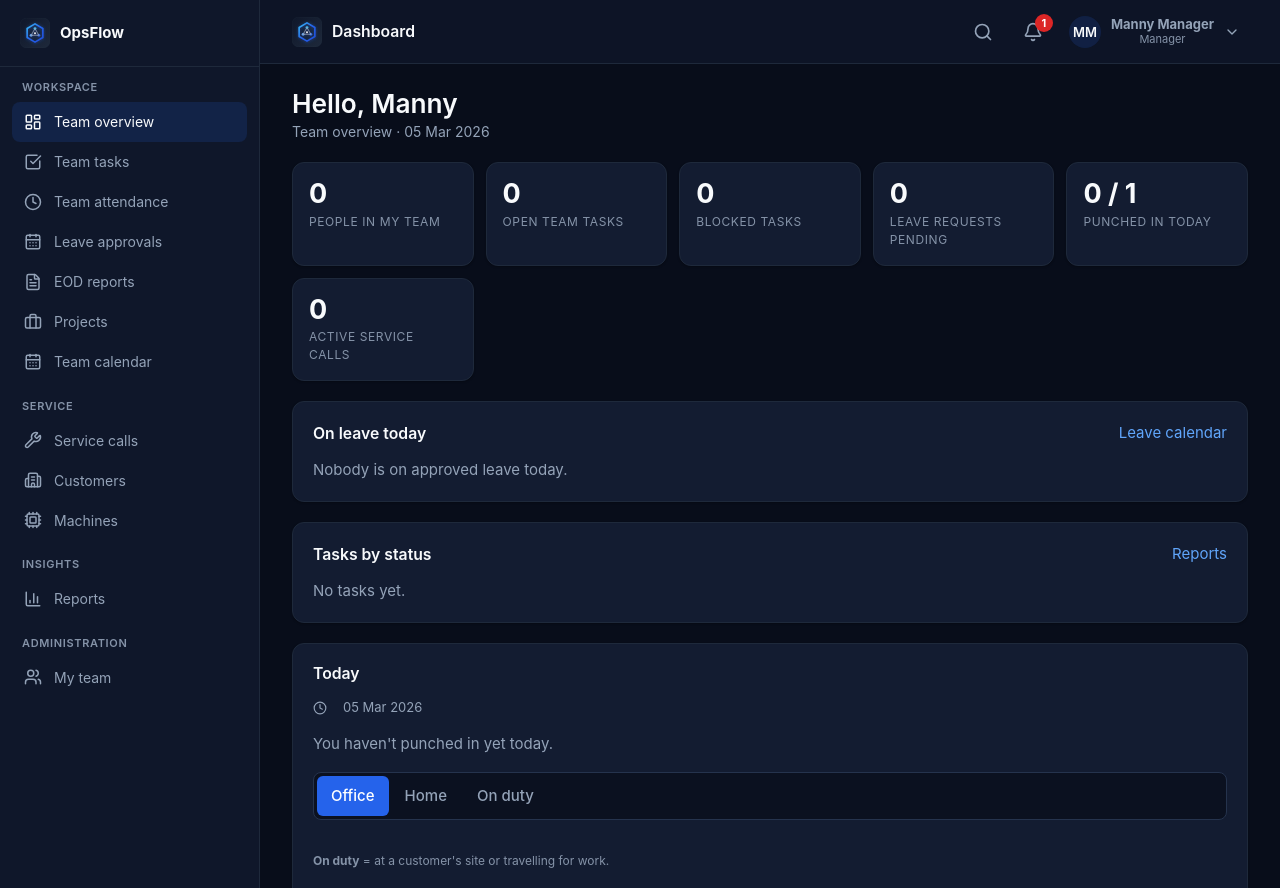
Notification centre (header) › opening one marks it read and goes to the record it names
The image size is (1280, 888).
Click the button named "Notifications, 1 unread".
click(1033, 32)  # box [1011,10,1055,54]
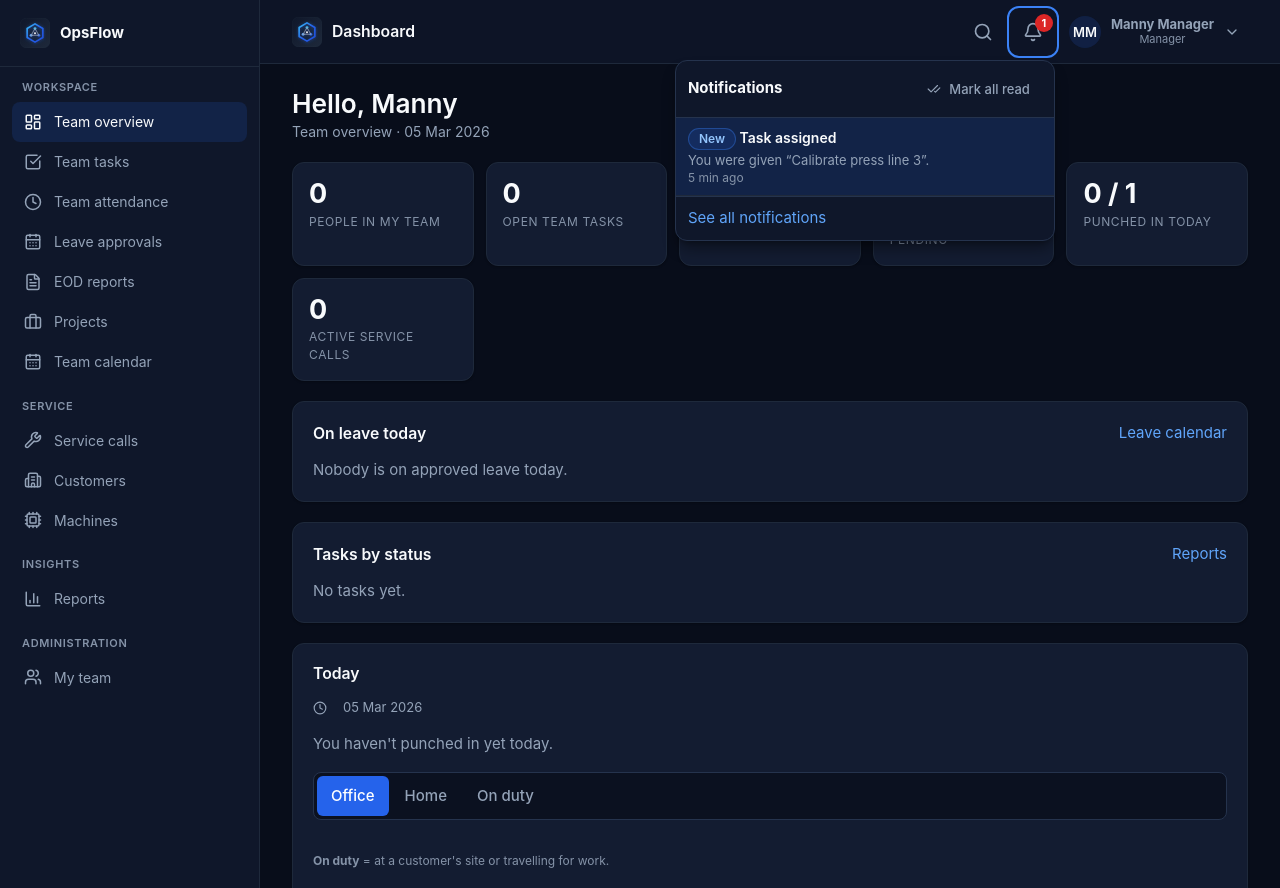
Click the button "Task assigned".
click(865, 157)  # box [676,118,1054,196]
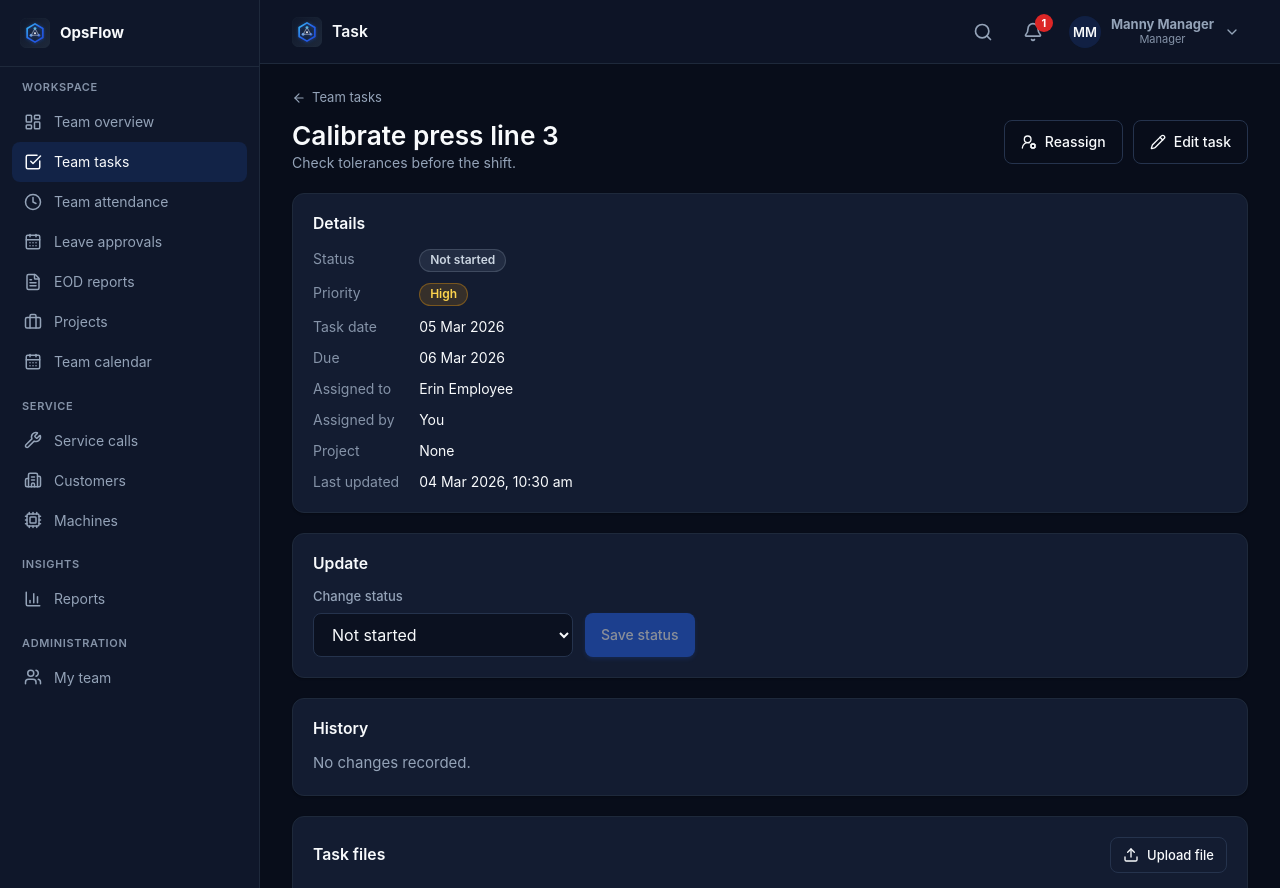
Expected: the text "Notifications" is gone
